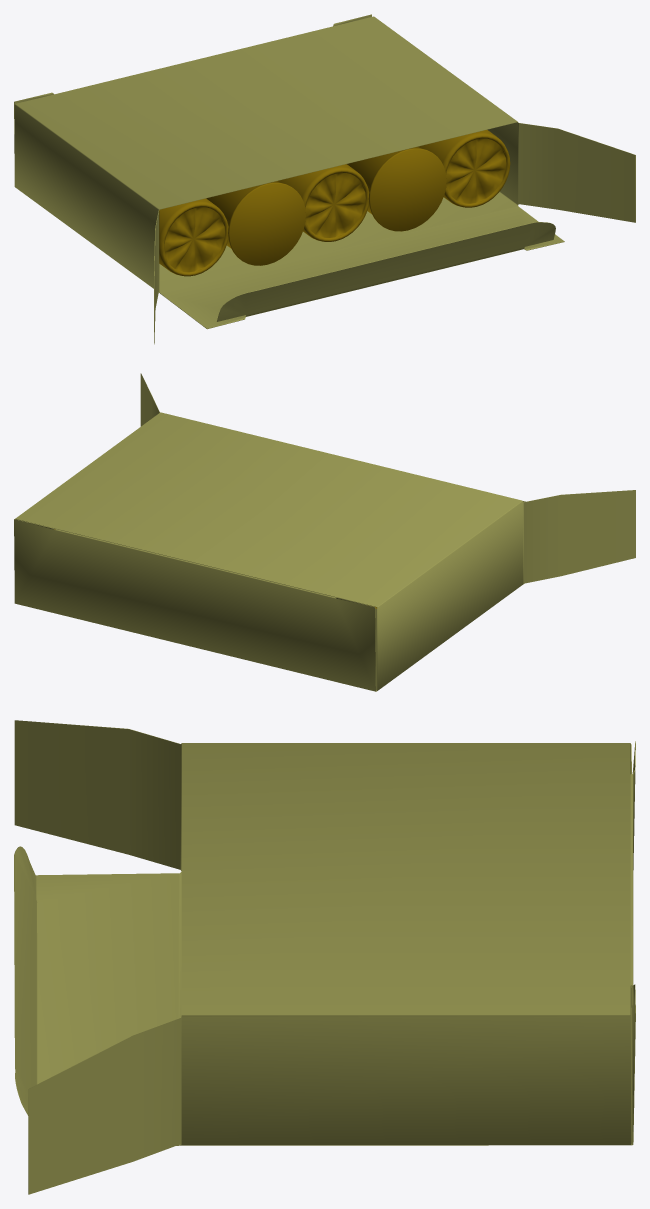
The model's file is BoxOn5_open_12ga_Flechette.FBX.
3 views of the same model, one above another, from view 1: azimuth 30°, elevation 25°; view 2: azimuth 150°, elevation 25°; view 3: azimuth 270°, elevation 25° (orthographic). The views are drawn at different scales.
Parts seen in each view (by area): view 1: BoxOn5_12ga_Flechette; view 2: BoxOn5_12ga_Flechette; view 3: BoxOn5_12ga_Flechette.
Boxes of the visible parts, bbox=[...] form: BoxOn5_12ga_Flechette: bbox=[14, 14, 635, 344]; BoxOn5_12ga_Flechette: bbox=[14, 373, 635, 691]; BoxOn5_12ga_Flechette: bbox=[14, 720, 635, 1194].
Size of the model in its own units: 12.95 by 9.21 by 2.2.
